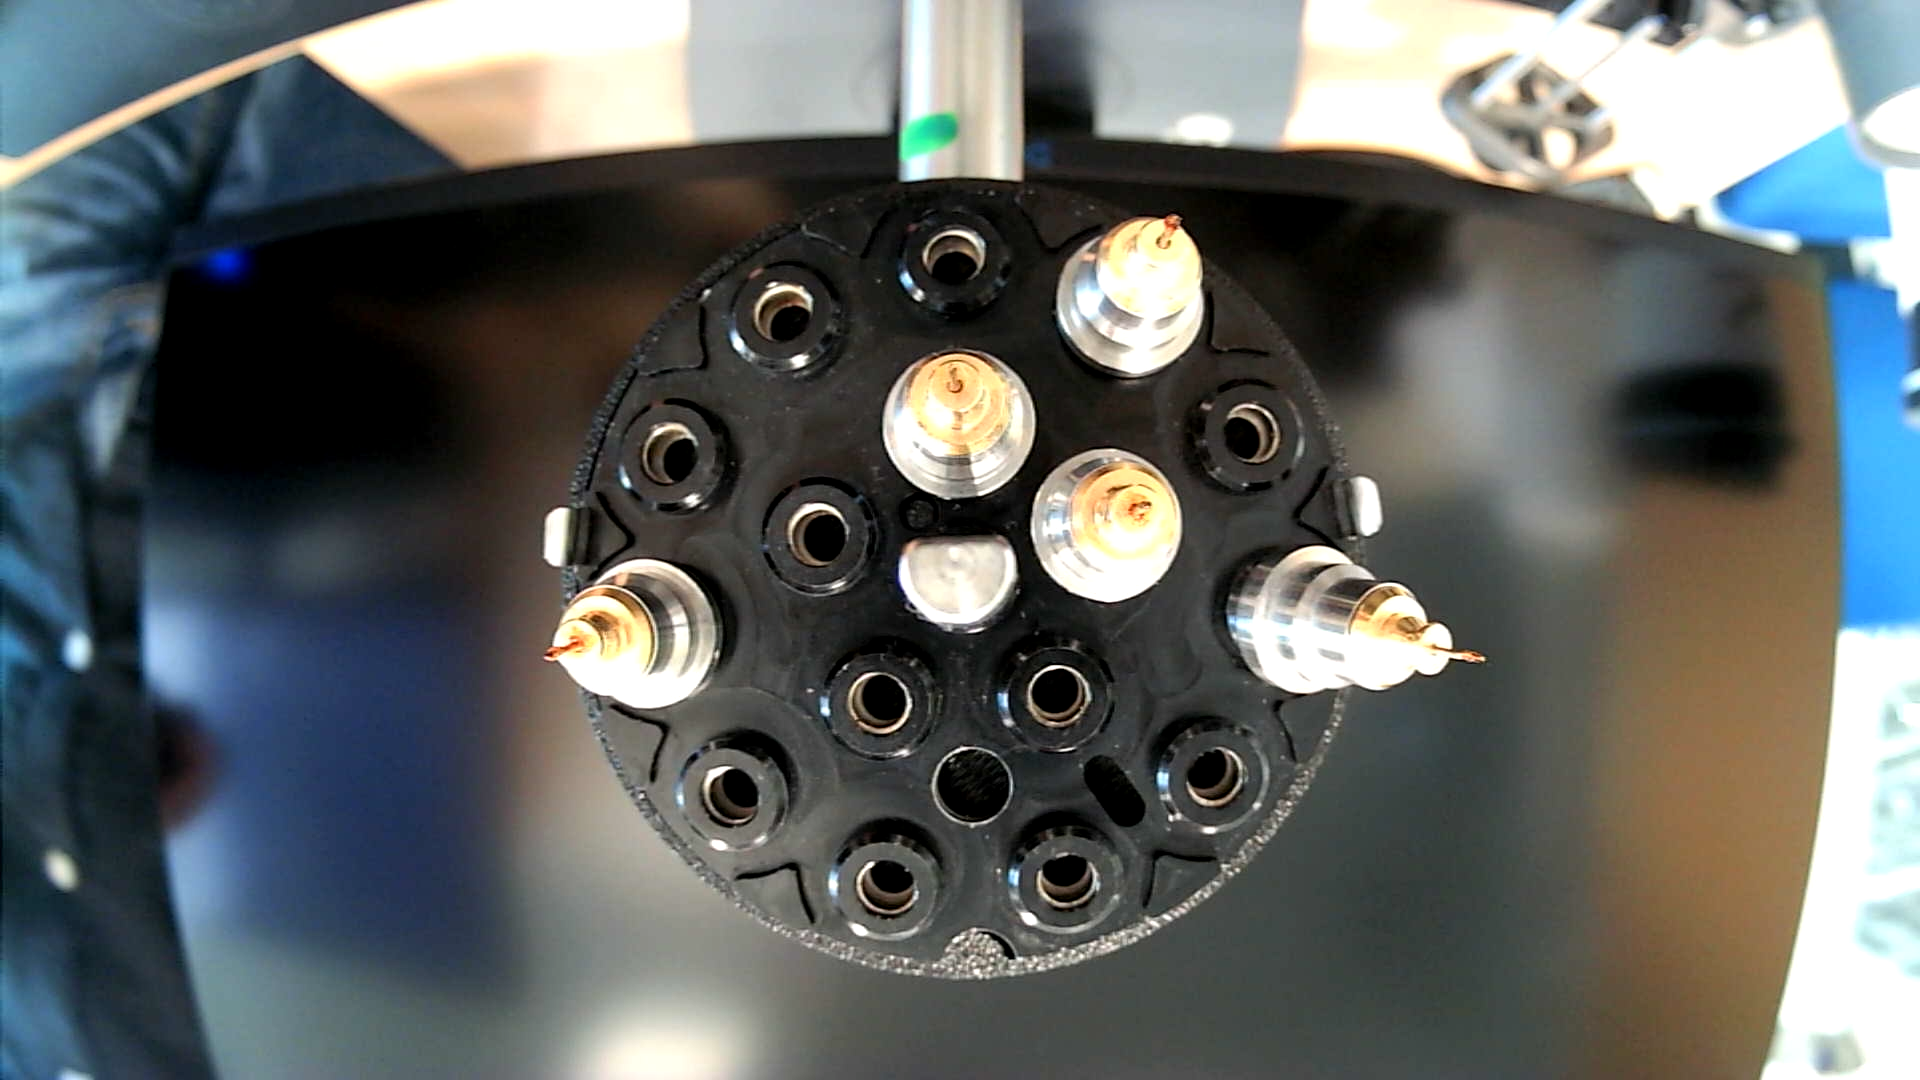empty: (1001, 814, 1135, 952), (756, 472, 884, 608), (825, 810, 951, 947), (816, 637, 947, 767), (721, 258, 855, 386), (671, 727, 800, 857), (611, 396, 742, 524), (1182, 373, 1309, 502), (890, 200, 1019, 324), (996, 632, 1120, 757), (1147, 712, 1269, 835)
hole: (926, 741, 1017, 828)
misplaced: (1211, 538, 1487, 698)
pin: (543, 555, 725, 715), (1054, 212, 1205, 384), (880, 347, 1038, 501), (1030, 448, 1184, 607)
rod: (891, 531, 1021, 640)
